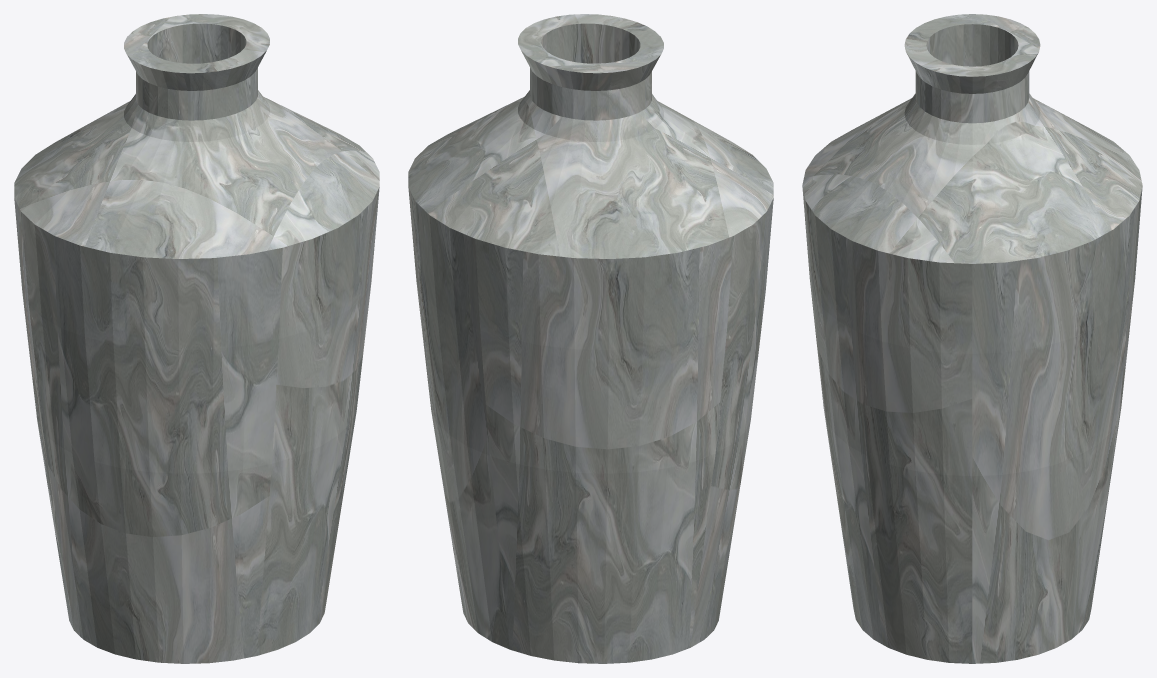
Rendered from Vase.fbx.
The picture shows the model from 3 angles, left to right: view 1: azimuth 30°, elevation 25°; view 2: azimuth 150°, elevation 25°; view 3: azimuth 270°, elevation 25°; orthographic projection.
Visible parts, largest first — view 1: Circle.001; view 2: Circle.001; view 3: Circle.001.
Boxes of the visible parts, x1,y1,x2,y2 form: Circle.001: (14,14,379,663); Circle.001: (408,14,773,663); Circle.001: (802,14,1142,663).
Bounding box in the file's own units: 77.12 × 129 × 70.61.
Materials: 1 (1 with a texture image).
